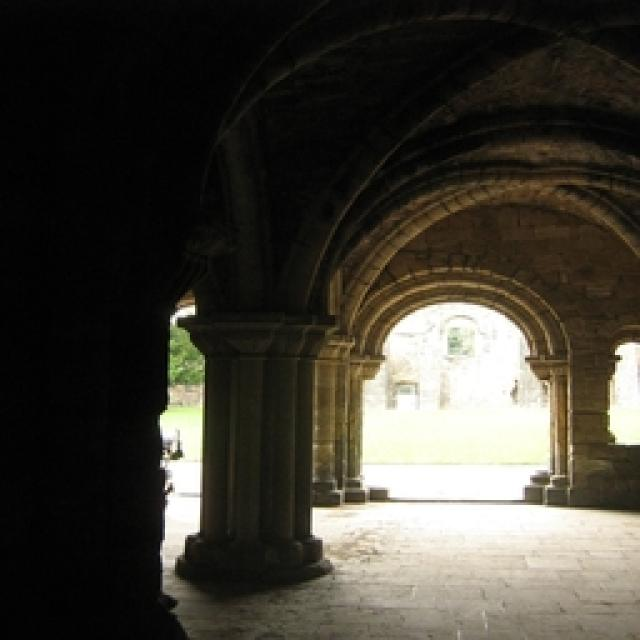Abbey: (335, 195, 591, 554)
